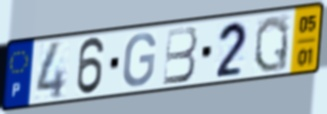2: (213, 18, 250, 82)
4: (34, 40, 68, 102)
6: (75, 36, 106, 97)
B: (161, 25, 199, 87)
G: (120, 31, 158, 89)
Q: (252, 13, 291, 74)
